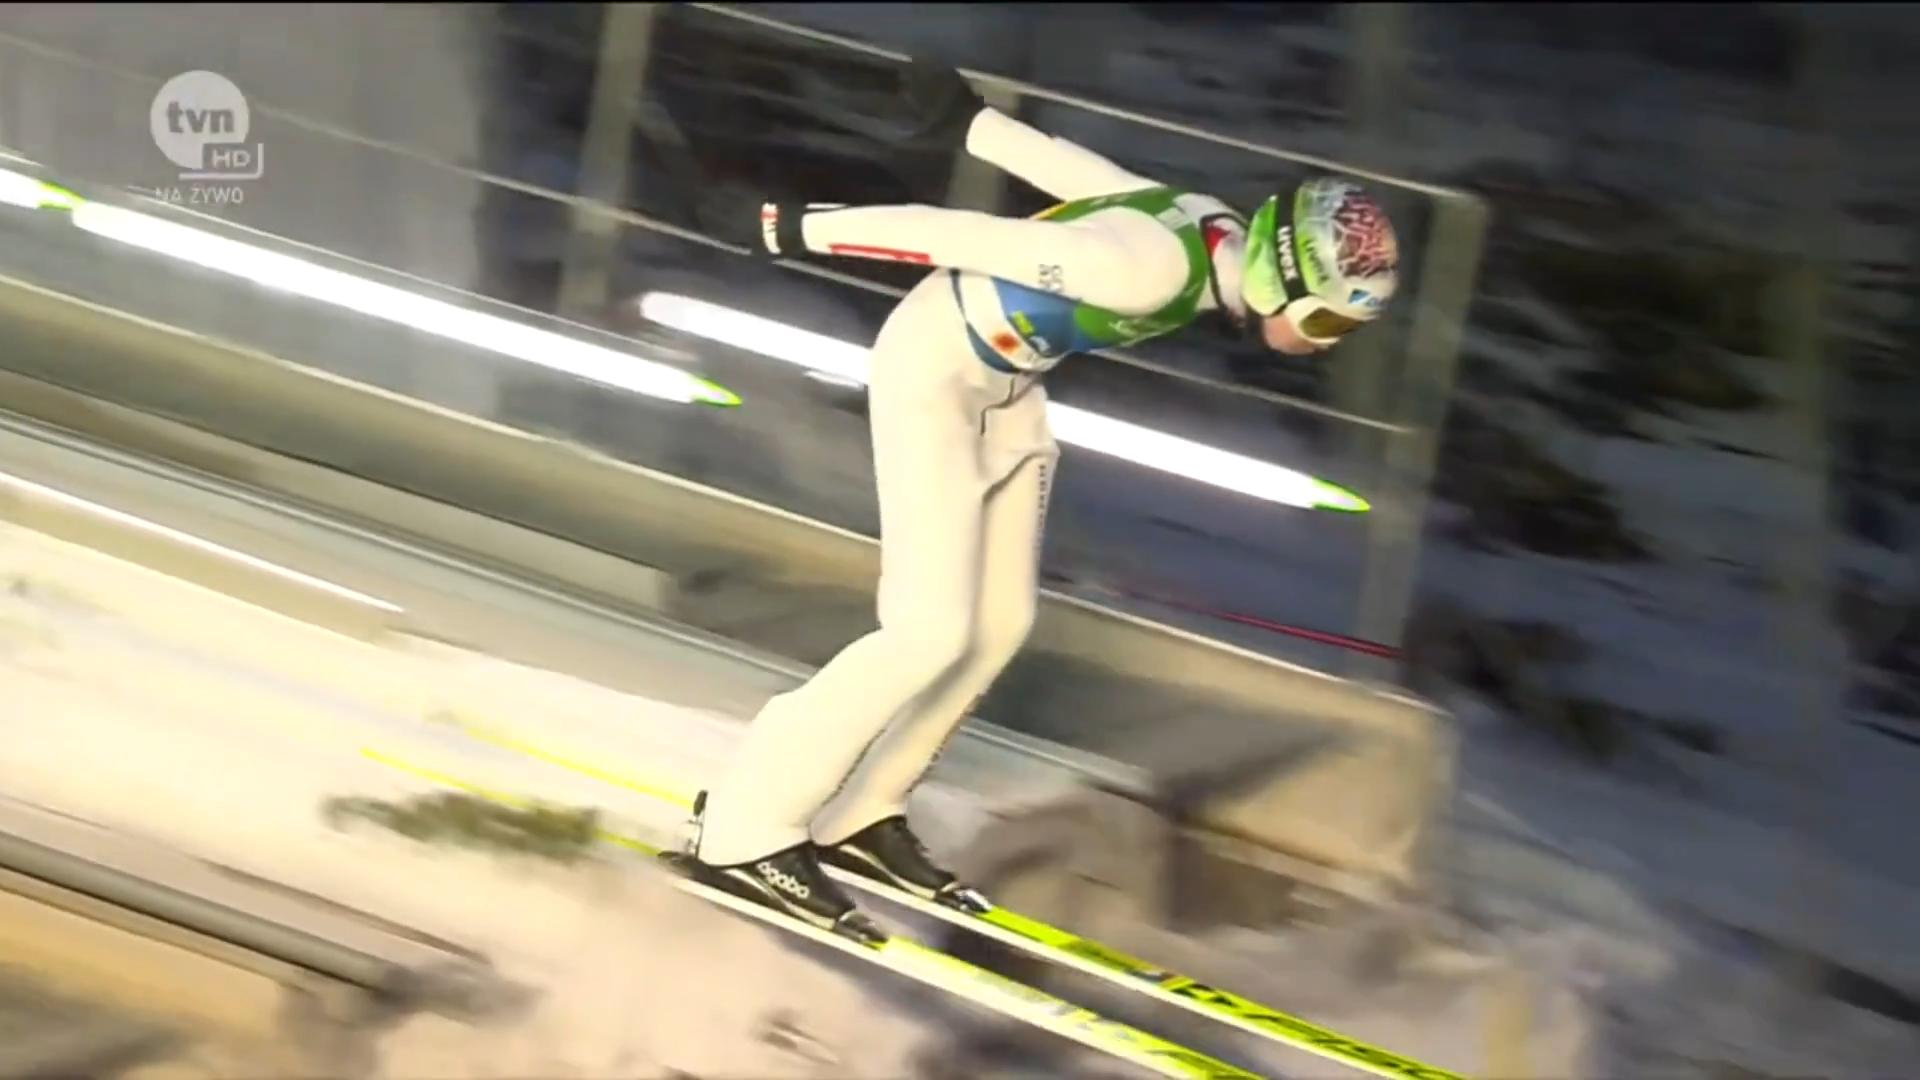prog: (988, 725, 1338, 873)
